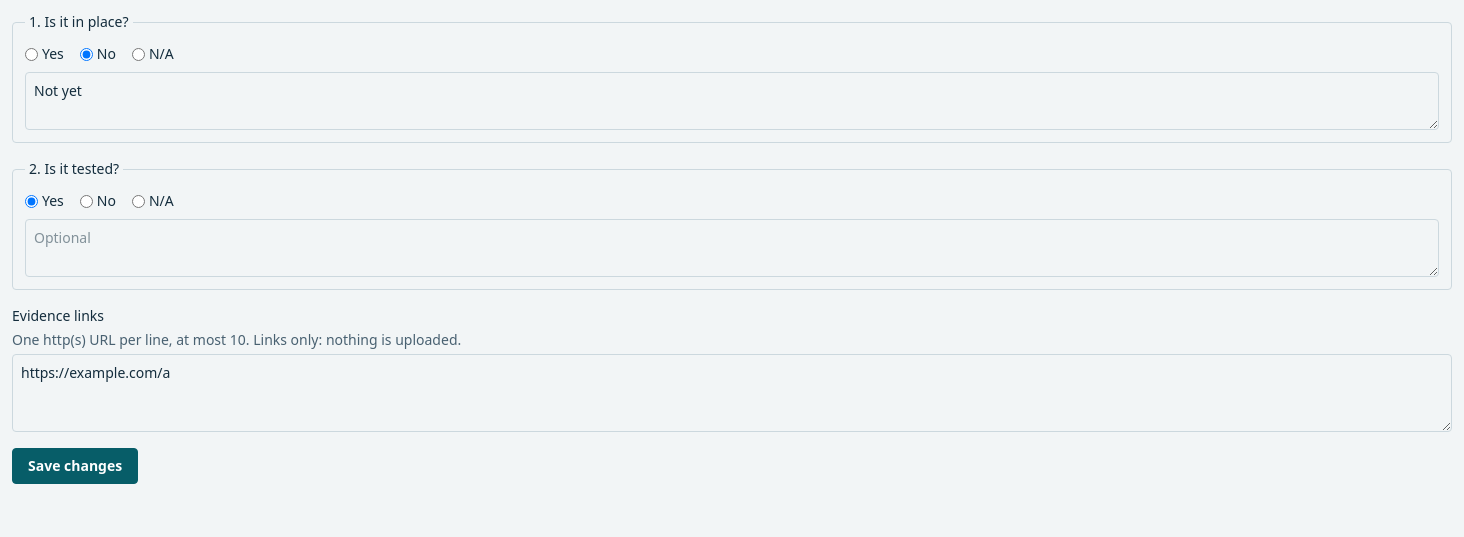
it: CheckUpResponseForm (#155) › starts from the current response so it can be changed, and shows the server's refusal
Expected: the radio button with aria-label "No for question 1" is checked, [80,48,93,60]
Expected: the text box labelled "Evidence links" holds "https://example.com/a", [12,354,1452,432]
Click the button "Save changes" at [75, 466], box [12,448,138,484]
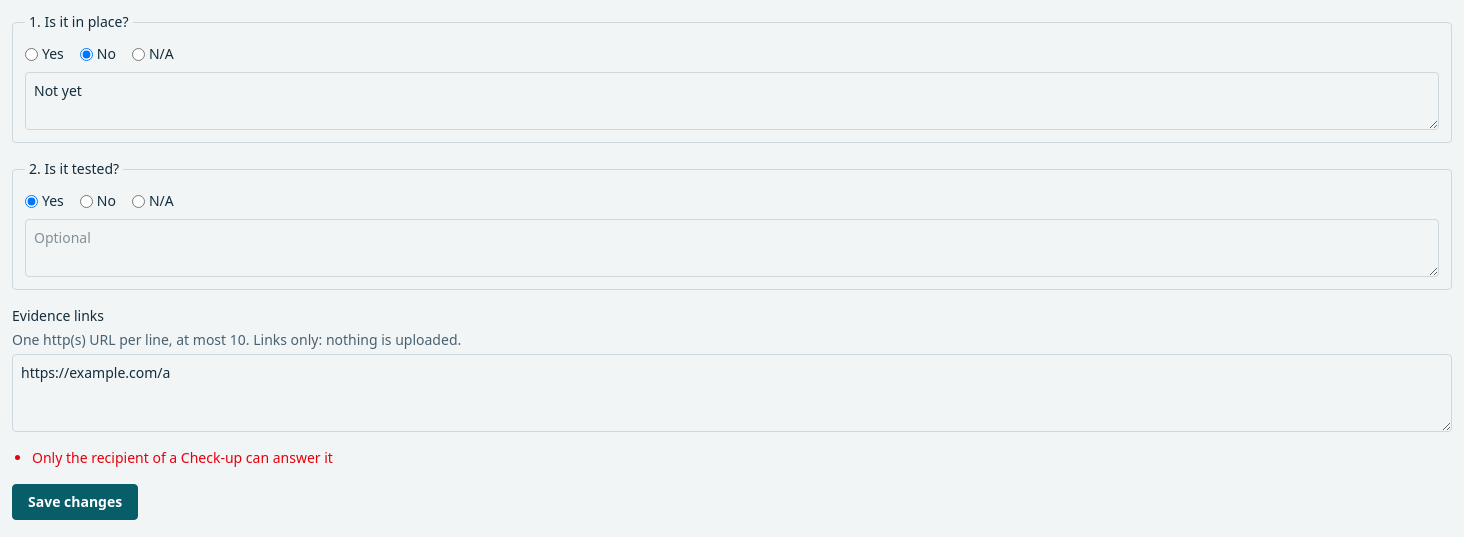
Expected: the message reads "Only the recipient of a Check-up can answer it", [32,448,333,467]
